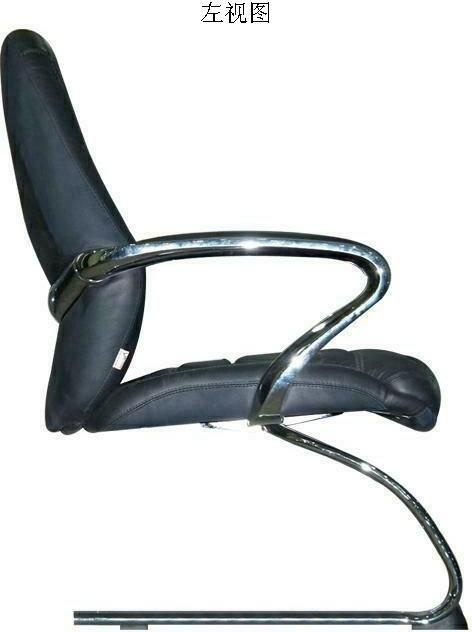obstacle: (2, 30, 463, 626)
